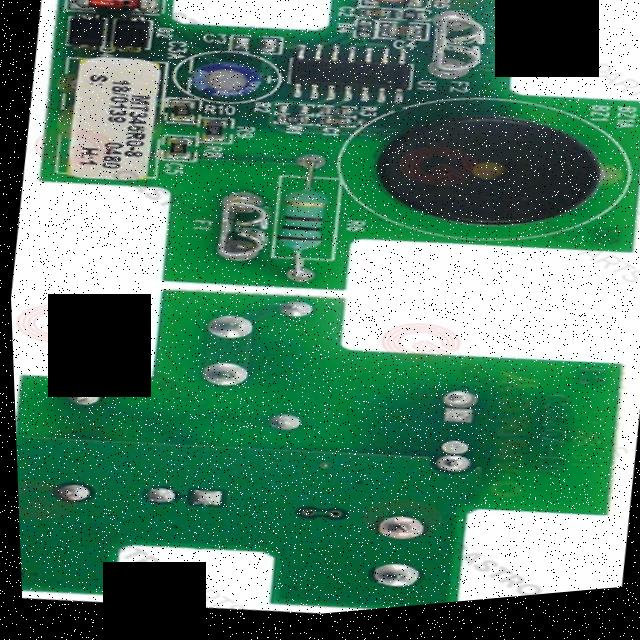IC: (280, 47, 417, 111)
buzzer: (368, 95, 634, 263)
capacitor 1V5: (181, 57, 266, 109), (381, 25, 430, 47), (320, 118, 356, 133), (361, 13, 394, 27)
diode -D1-: (58, 14, 111, 55), (69, 0, 164, 21), (109, 18, 152, 55), (358, 0, 429, 21)
resistor IR1: (266, 184, 330, 268), (160, 138, 194, 164), (200, 122, 229, 147), (165, 102, 194, 123), (311, 109, 350, 124), (271, 117, 310, 131), (354, 26, 378, 45), (396, 14, 425, 28)
